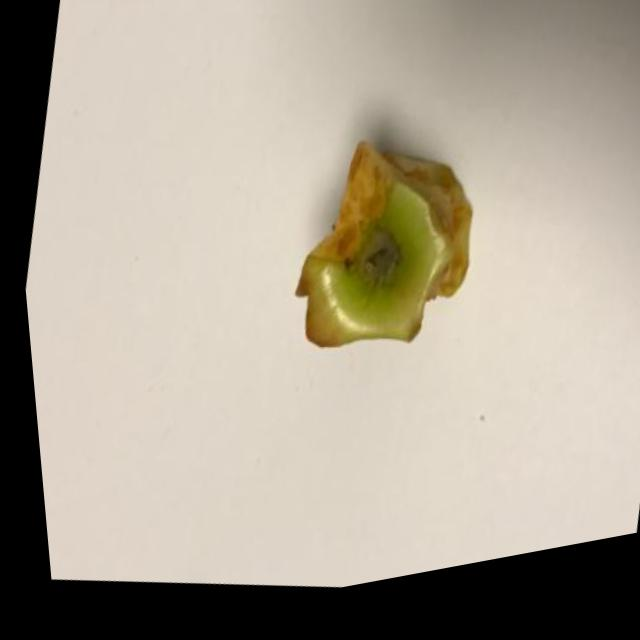trash: (190, 38, 558, 506)
